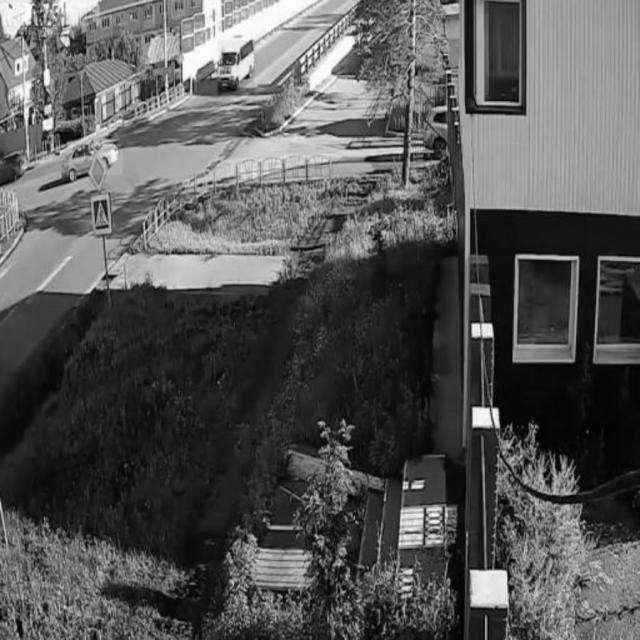vehicle: (217, 40, 255, 96), (68, 140, 124, 175)
